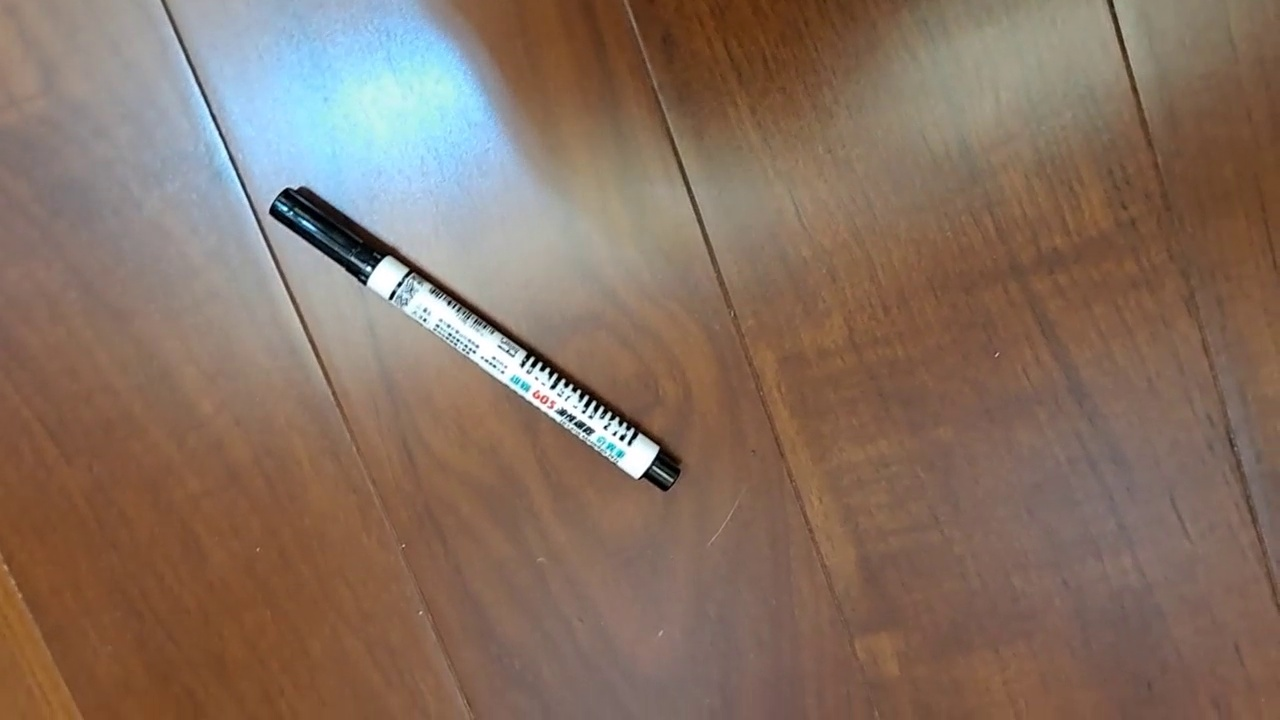pen: (268, 185, 681, 493)
